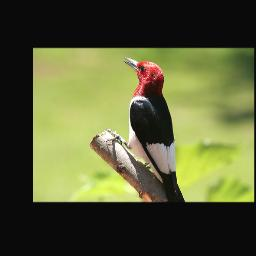Woodpecker: (118, 55, 187, 202)
